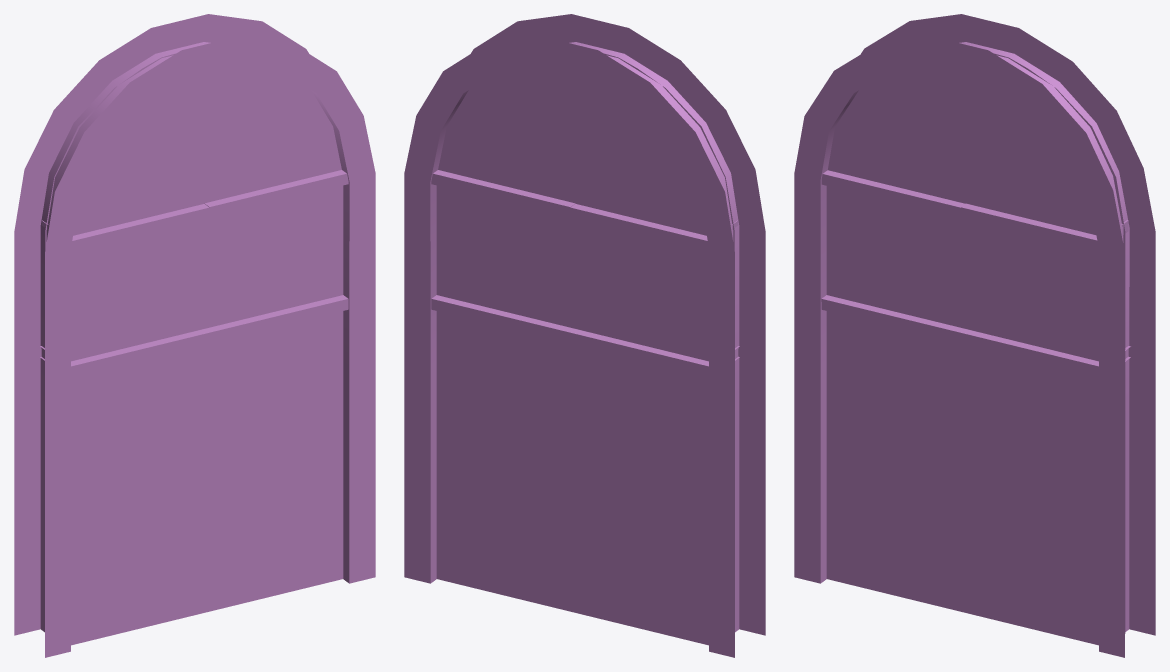
The model's file is Gate_Closed.fbx.
3 views of the same model, side by side, from view 1: azimuth 30°, elevation 25°; view 2: azimuth 150°, elevation 25°; view 3: azimuth 330°, elevation 25° (orthographic).
Visible parts, largest first — view 1: Gate_Closed; view 2: Gate_Closed; view 3: Gate_Closed.
Boxes of the visible parts, x1,y1,x2,y2 form: Gate_Closed: (14, 14, 375, 657); Gate_Closed: (404, 14, 765, 657); Gate_Closed: (794, 14, 1155, 657).
Size of the model in its own units: 470 by 780 by 75.
